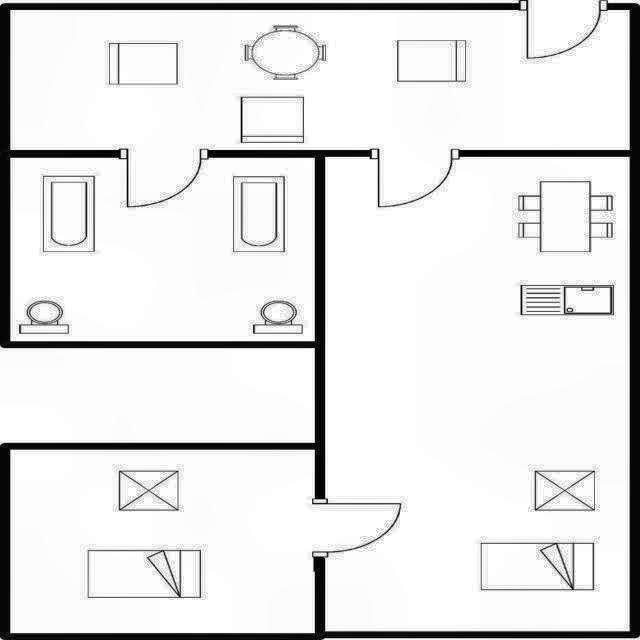room: (325, 157, 630, 631), (10, 10, 629, 150), (10, 158, 315, 341), (10, 450, 315, 633)
